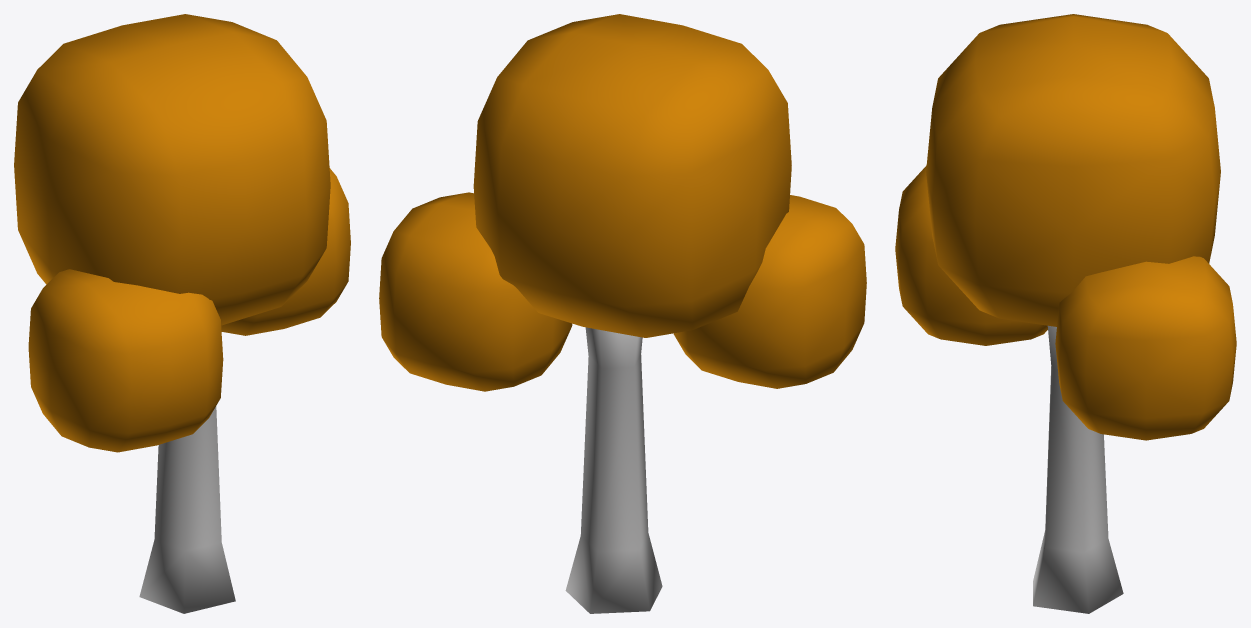
3 views of the same model, side by side, from view 1: azimuth 30°, elevation 25°; view 2: azimuth 150°, elevation 25°; view 3: azimuth 270°, elevation 25° (orthographic). The views are drawn at different scales.
Parts seen in each view (by area): view 1: 立方体; view 2: 立方体; view 3: 立方体.
Boxes of the visible parts, x1=… form: 立方体: x1=14, y1=14, x2=350, y2=613; 立方体: x1=379, y1=14, x2=866, y2=613; 立方体: x1=895, y1=14, x2=1236, y2=613.
Size of the model in its own units: 2.79 by 4.06 by 2.32.
Materials: 1 (1 with a texture image).
